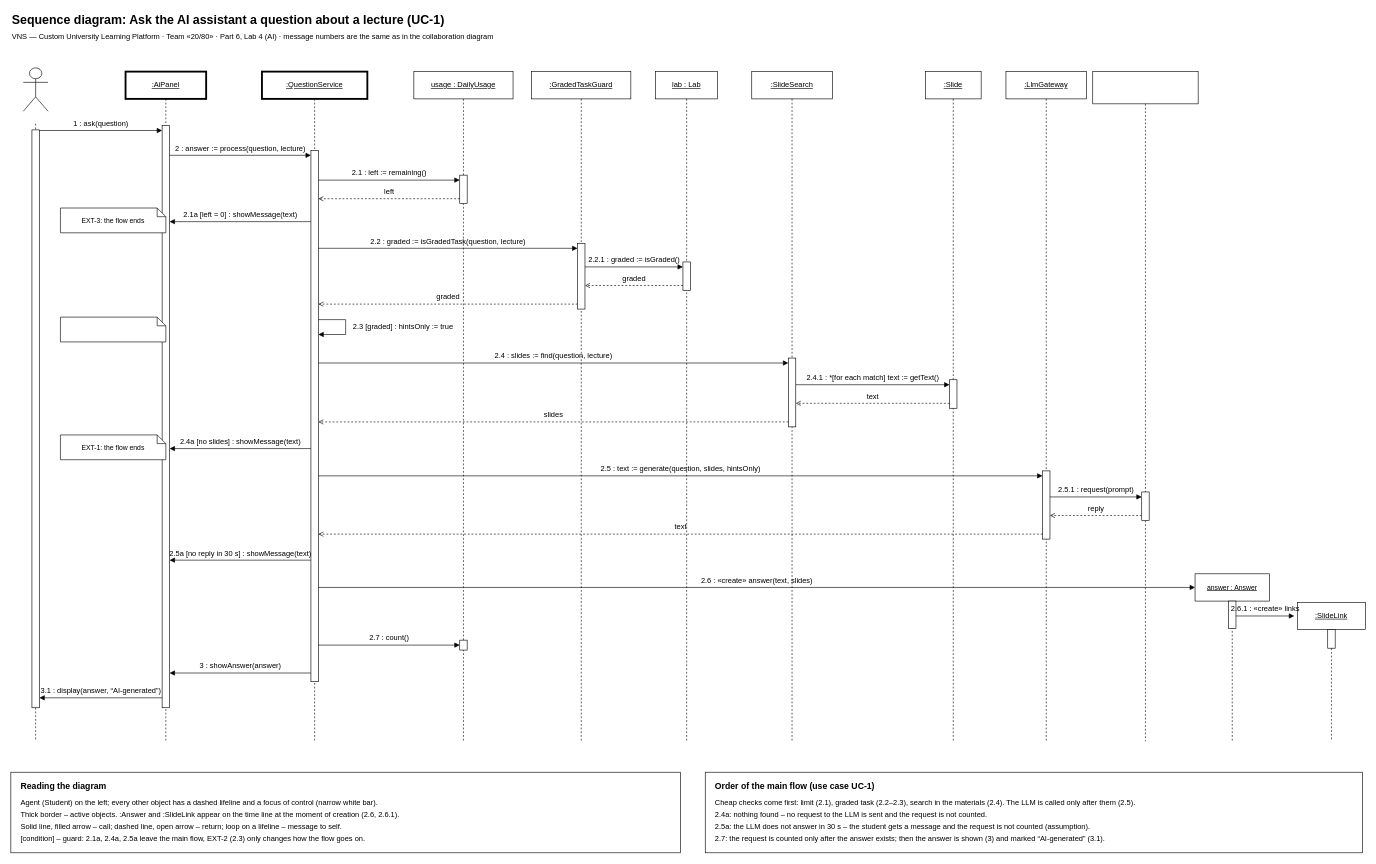
Some shapes in this 1376 by 864 pixel diagram are drawn without their labels. The shapes that lost their labels are listed below. From the top down, each one's centre as x and y in pixels, then its label:
[35,89]: Student
[1145,87]: «external system» External LLM API
[113,329]: EXT-2: hints only, the flow goes on
